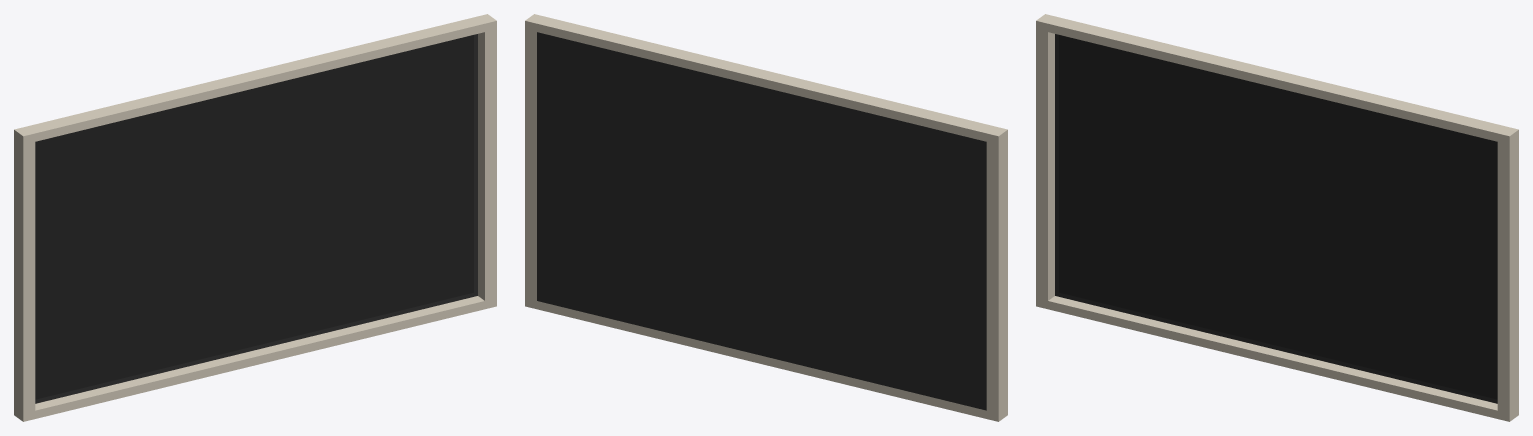
File: apple_video_wall_frame.glb
3 renders of one model, left to right at view 1: azimuth 30°, elevation 25°; view 2: azimuth 150°, elevation 25°; view 3: azimuth 330°, elevation 25°, orthographic.
Visible parts, largest first — view 1: screen, apple_video_wall_frame; view 2: apple_video_wall_frame; view 3: screen, apple_video_wall_frame.
Part boxes in pixels (x1,y1,x2,y2): screen: (35,35,473,399); apple_video_wall_frame: (14,14,496,421); apple_video_wall_frame: (525,14,1007,421); screen: (1059,35,1497,399); apple_video_wall_frame: (1036,14,1518,421).
Size of the model in its own units: 11.8 by 6.8 by 0.4.
